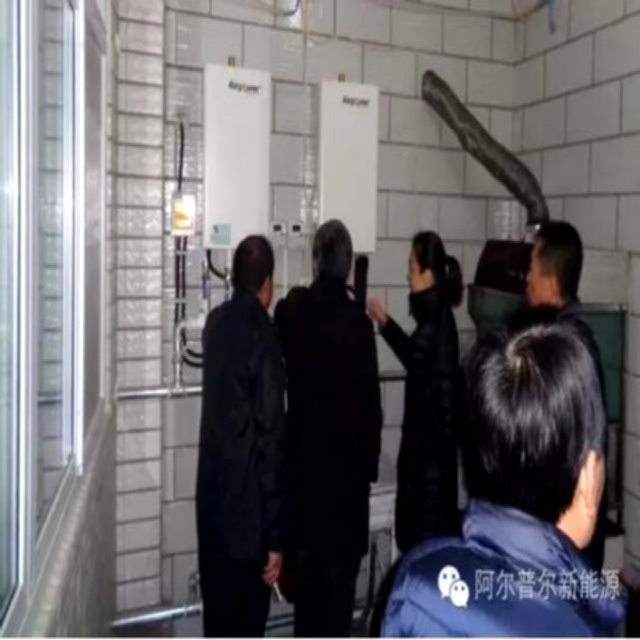Sin_Casco_Mascarrilla: (527, 221, 583, 311), (231, 234, 276, 308), (405, 231, 447, 301), (313, 220, 352, 287)
